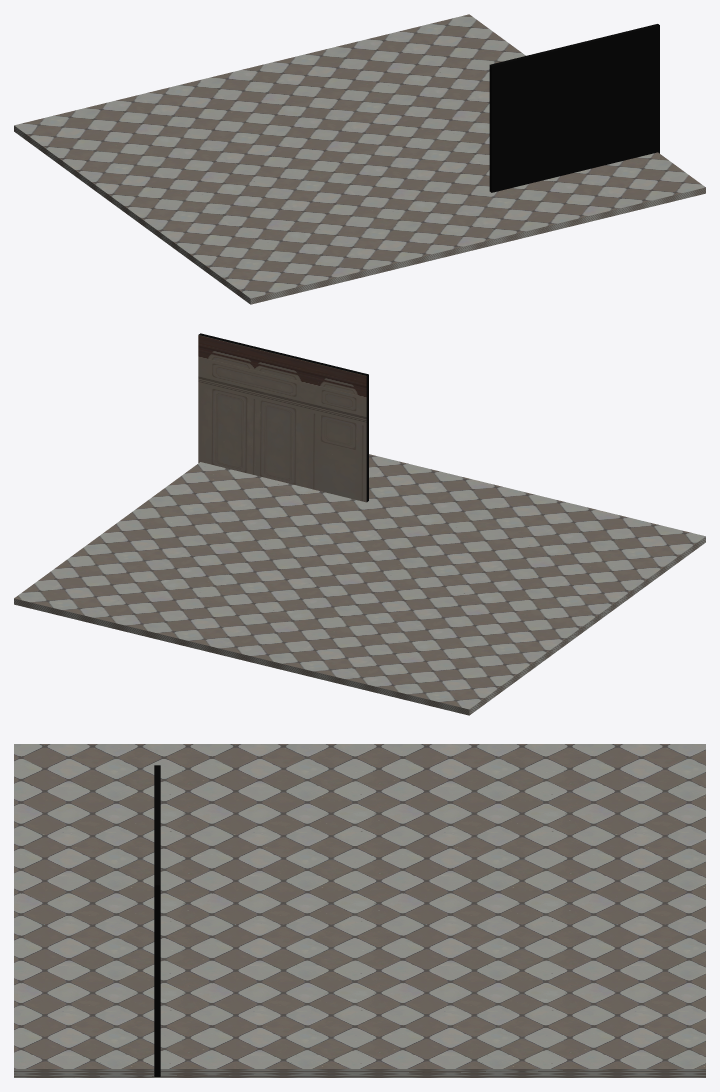
File: Pasillo.obj
3 views of the same model, one above another, from view 1: azimuth 30°, elevation 25°; view 2: azimuth 150°, elevation 25°; view 3: azimuth 270°, elevation 25° (orthographic). The views are drawn at different scales.
Size of the model in its own units: 24.45 by 6.77 by 21.9.
